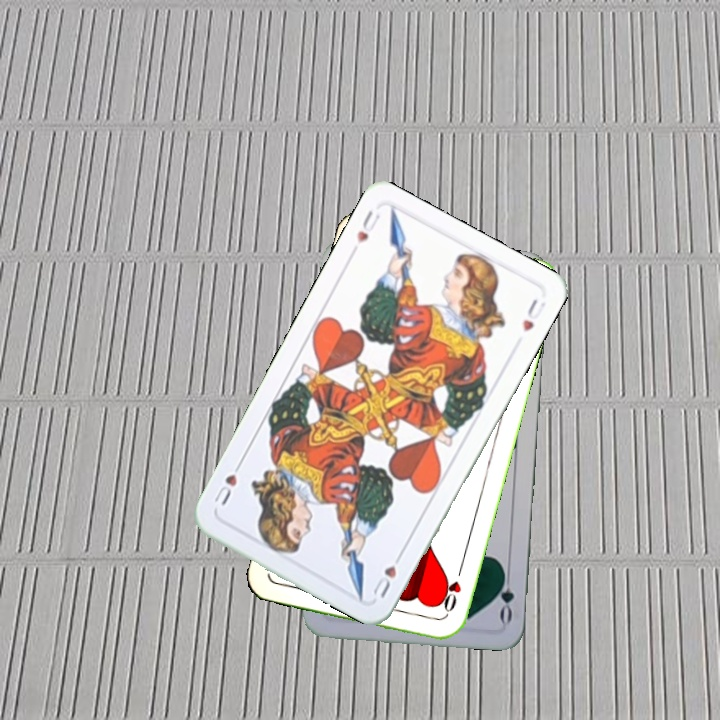GO: (495, 565, 516, 625)
HO: (434, 564, 465, 622)
HU: (369, 547, 407, 601), (352, 206, 383, 247)
